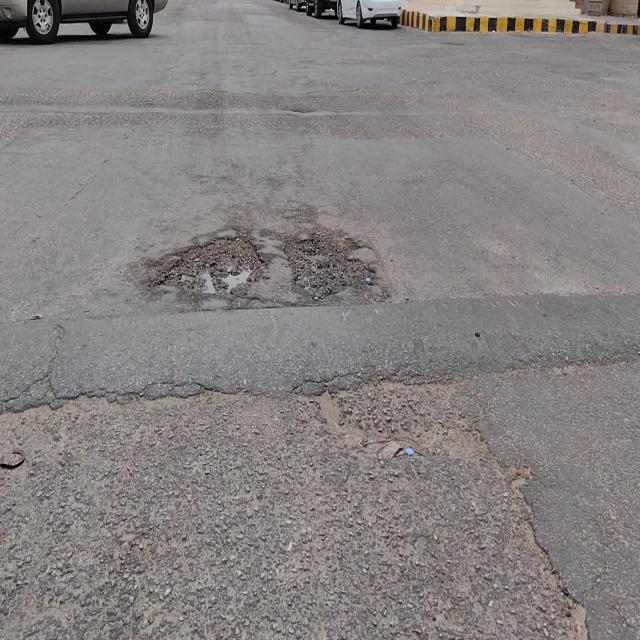Pothole: (284, 223, 377, 301), (157, 234, 264, 296)
